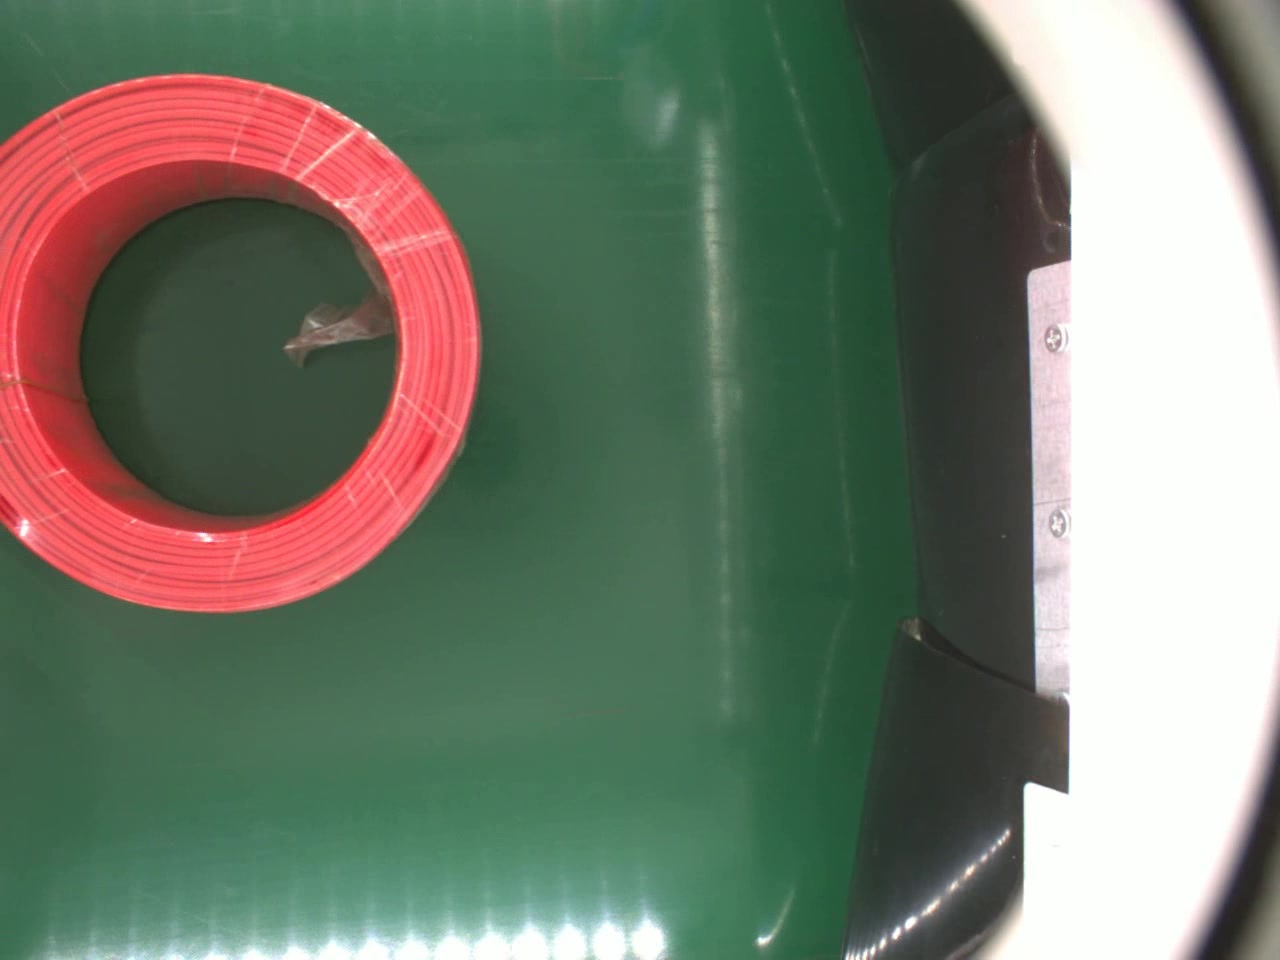red: (0, 67, 488, 618)
